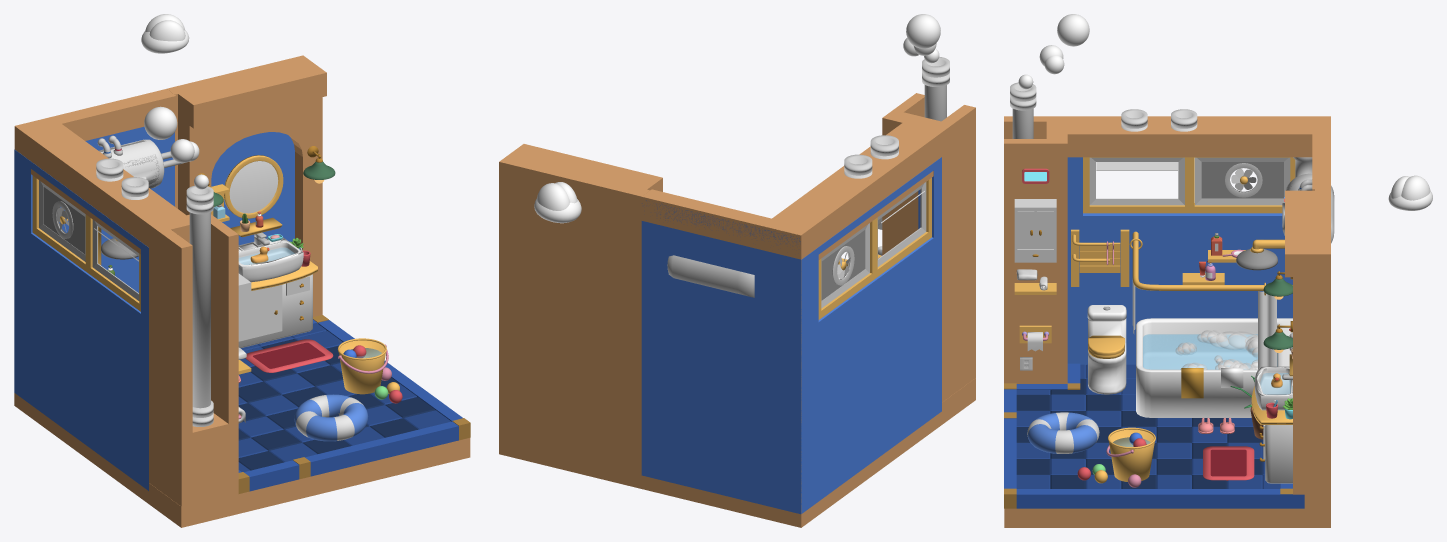
Rendered from bathroom.glb.
3 renders of one model, left to right at view 1: azimuth 30°, elevation 25°; view 2: azimuth 150°, elevation 25°; view 3: azimuth 270°, elevation 25°, orthographic. The views are drawn at different scales.
Visible parts, largest first — view 1: 平面.001, 平面.007, 平面.002, 平面.003, 平面.010, 柱体.031, 立方体.014, 平面.005, Torus.005, 平面.004, 立方体.010, 柱体.006 (+19 smaller); view 2: 平面.002, 平面.004, 平面.007, 平面.001, 平面.010, 平面.005, 立方体.005, 柱体, 柱体.031, 平面, 球体.045, 立方体.033 (+5 smaller); view 3: 平面.001, 平面.007, 平面.003, 平面.002, 立方体.001, 平面.010, 立方体.015, 立方体.068, 立方体.005, 立方体.084, 立方体.044, 立方体.004 (+28 smaller).
Part boxes in pixels (bbox=[...]): 平面.001: bbox=[14, 117, 238, 514]; 平面.007: bbox=[14, 149, 148, 490]; 平面.002: bbox=[167, 55, 326, 316]; 平面.003: bbox=[238, 323, 450, 471]; 平面.010: bbox=[14, 393, 470, 527]; 柱体.031: bbox=[186, 185, 213, 426]; 立方体.014: bbox=[244, 421, 458, 491]; 平面.005: bbox=[52, 89, 176, 140]; Torus.005: bbox=[294, 394, 368, 441]; 平面.004: bbox=[59, 126, 174, 292]; 立方体.010: bbox=[238, 237, 303, 282]; 柱体.006: bbox=[229, 161, 278, 213]; 平面.002: bbox=[499, 144, 662, 475]; 平面.004: bbox=[641, 200, 800, 514]; 平面.007: bbox=[801, 157, 941, 513]; 平面.001: bbox=[762, 93, 975, 505]; 平面.010: bbox=[499, 378, 975, 527]; 平面.005: bbox=[641, 189, 800, 259]; 立方体.005: bbox=[818, 178, 931, 319]; 柱体: bbox=[667, 255, 754, 297]; 柱体.031: bbox=[922, 57, 949, 121]; 平面: bbox=[821, 230, 865, 300]; 球体.045: bbox=[906, 14, 940, 48]; 立方体.033: bbox=[877, 182, 926, 266]; 平面.001: bbox=[1004, 116, 1330, 383]; 平面.007: bbox=[1067, 157, 1292, 364]; 平面.003: bbox=[1016, 364, 1280, 488]; 平面.002: bbox=[1285, 189, 1330, 507]; 立方体.001: bbox=[1136, 318, 1292, 417]; 平面.010: bbox=[1004, 507, 1330, 527]; 立方体.015: bbox=[1016, 489, 1304, 508]; 立方体.068: bbox=[1143, 334, 1257, 369]; 立方体.005: bbox=[1083, 157, 1295, 213]; 立方体.084: bbox=[1143, 335, 1257, 369]; 立方体.044: bbox=[1014, 199, 1056, 262]; 立方体.004: bbox=[1087, 305, 1126, 394].
Size of the model in its own units: 6.57 by 8.37 by 8.53.
